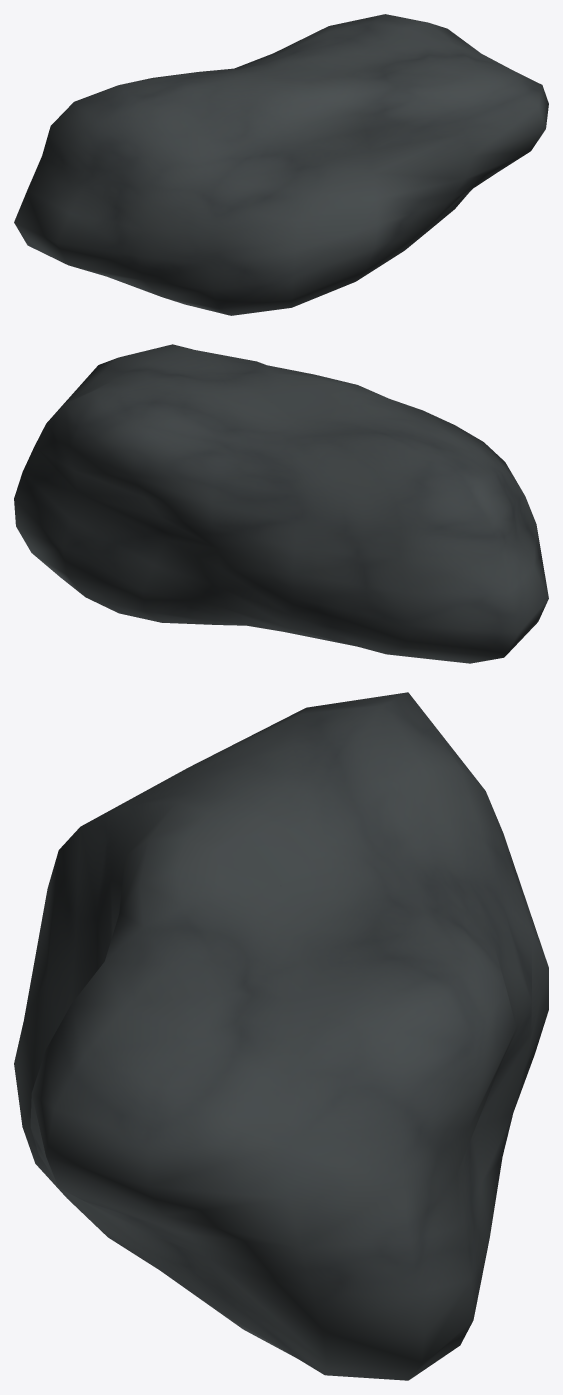
Rendered from Asteroid-02.fbx.
3 renders of one model, top to bottom at view 1: azimuth 30°, elevation 25°; view 2: azimuth 150°, elevation 25°; view 3: azimuth 270°, elevation 25°, orthographic. The views are drawn at different scales.
Visible parts, largest first — view 1: Asteroid_Opt02_LOD0; view 2: Asteroid_Opt02_LOD0; view 3: Asteroid_Opt02_LOD0.
Part boxes in pixels (x1=…): Asteroid_Opt02_LOD0: x1=14, y1=14, x2=548, y2=315; Asteroid_Opt02_LOD0: x1=14, y1=344, x2=548, y2=663; Asteroid_Opt02_LOD0: x1=14, y1=692, x2=548, y2=1380.
Size of what is drawn, in the model's own units: 341 by 141 by 171.
